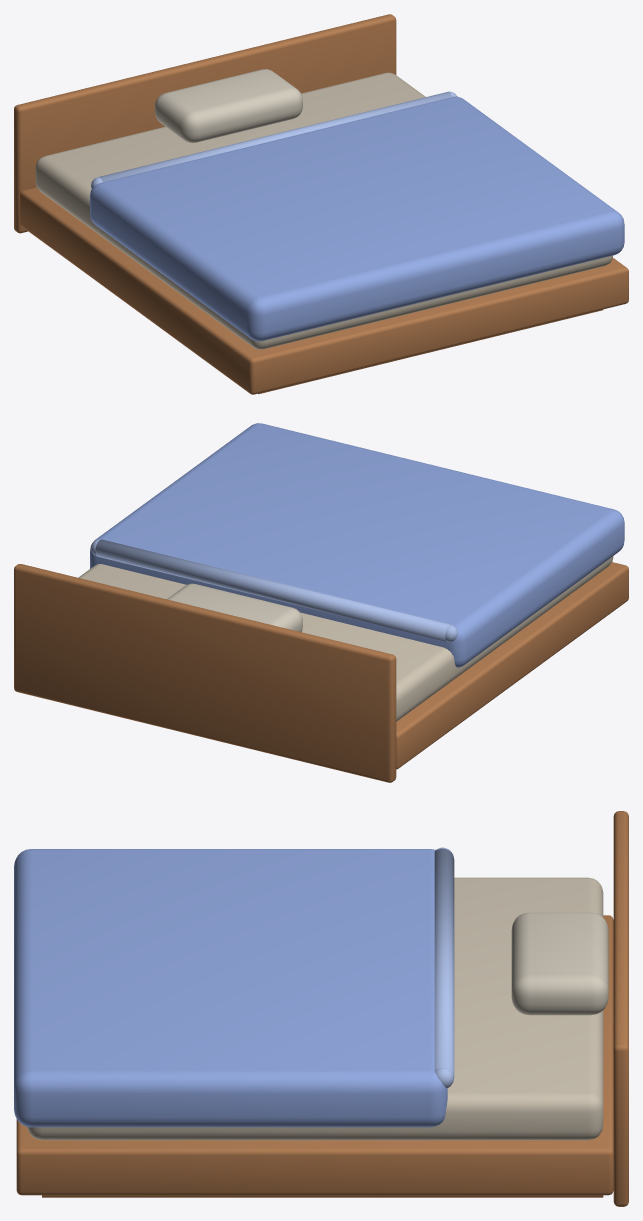
File: bed.glb
The picture shows the model from 3 angles, top to bottom: view 1: azimuth 30°, elevation 25°; view 2: azimuth 150°, elevation 25°; view 3: azimuth 270°, elevation 25°; orthographic projection. The views are drawn at different scales.
Parts seen in each view (by area): view 1: bed_blanket, bed_frame, bed_headboard, bed_mattress, bed_pillow, bed_blanket_fold; view 2: bed_blanket, bed_headboard, bed_frame, bed_mattress, bed_blanket_fold, bed_pillow; view 3: bed_blanket, bed_mattress, bed_frame, bed_pillow, bed_headboard, bed_blanket_fold, bed_plinth.
Part boxes in pixels (x1=…): bed_blanket: x1=90, y1=96, x2=624, y2=341; bed_frame: x1=20, y1=187, x2=628, y2=394; bed_headboard: x1=14, y1=14, x2=396, y2=233; bed_mattress: x1=35, y1=72, x2=612, y2=349; bed_pillow: x1=155, y1=69, x2=302, y2=142; bed_blanket_fold: x1=91, y1=91, x2=456, y2=188; bed_blanket: x1=90, y1=423, x2=624, y2=667; bed_headboard: x1=14, y1=564, x2=396, y2=782; bed_frame: x1=396, y1=562, x2=628, y2=769; bed_mattress: x1=78, y1=556, x2=613, y2=721; bed_blanket_fold: x1=91, y1=539, x2=457, y2=642; bed_pillow: x1=167, y1=583, x2=302, y2=632; bed_blanket: x1=14, y1=849, x2=447, y2=1127; bed_mattress: x1=27, y1=877, x2=603, y2=1140; bed_frame: x1=16, y1=915, x2=613, y2=1195; bed_pillow: x1=511, y1=912, x2=608, y2=1015; bed_headboard: x1=613, y1=811, x2=628, y2=1206; bed_blanket_fold: x1=434, y1=847, x2=454, y2=1088; bed_plinth: x1=42, y1=1195, x2=603, y2=1197.
Size of the model in its own units: 2.2 by 0.7 by 2.41.
